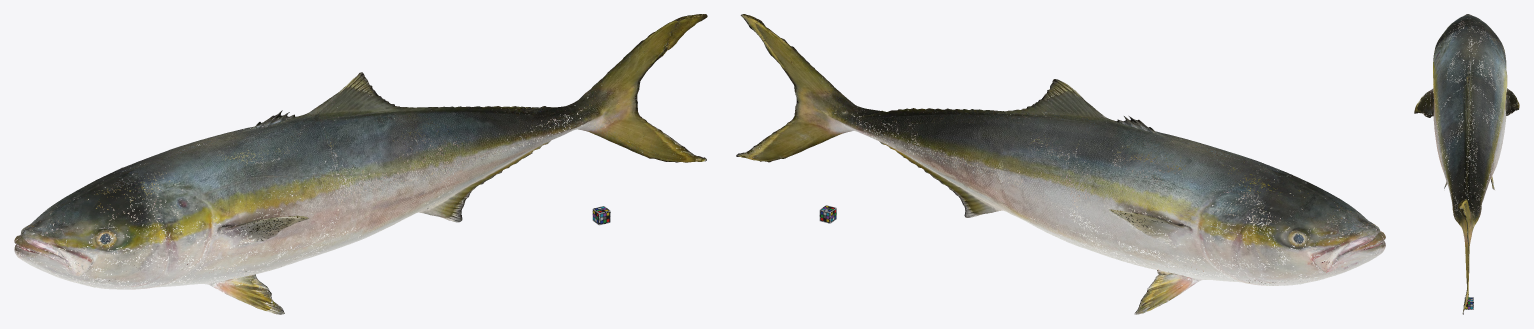
Rendered from scan_yellowtail.glb.
3 views of the same model, side by side, from view 1: azimuth 30°, elevation 25°; view 2: azimuth 150°, elevation 25°; view 3: azimuth 270°, elevation 25° (orthographic). The views are drawn at different scales.
Visible parts, largest first — view 1: Object_6, Object_12, Object_18; view 2: Object_18, Object_6, Object_12; view 3: Object_6, Object_18, Object_12, Object_4.
Boxes of the visible parts, bbox=[...] form: Object_6: bbox=[14, 14, 707, 306]; Object_12: bbox=[14, 14, 707, 314]; Object_18: bbox=[14, 14, 704, 314]; Object_18: bbox=[740, 14, 1385, 314]; Object_6: bbox=[740, 15, 1384, 311]; Object_12: bbox=[736, 14, 1385, 314]; Object_6: bbox=[1414, 14, 1519, 313]; Object_18: bbox=[1415, 15, 1519, 310]; Object_12: bbox=[1415, 14, 1518, 314]; Object_4: bbox=[1464, 297, 1473, 309].
Bounding box in the file's own units: 23.27 × 6.81 × 4.35.
4 materials, 4 textured.
